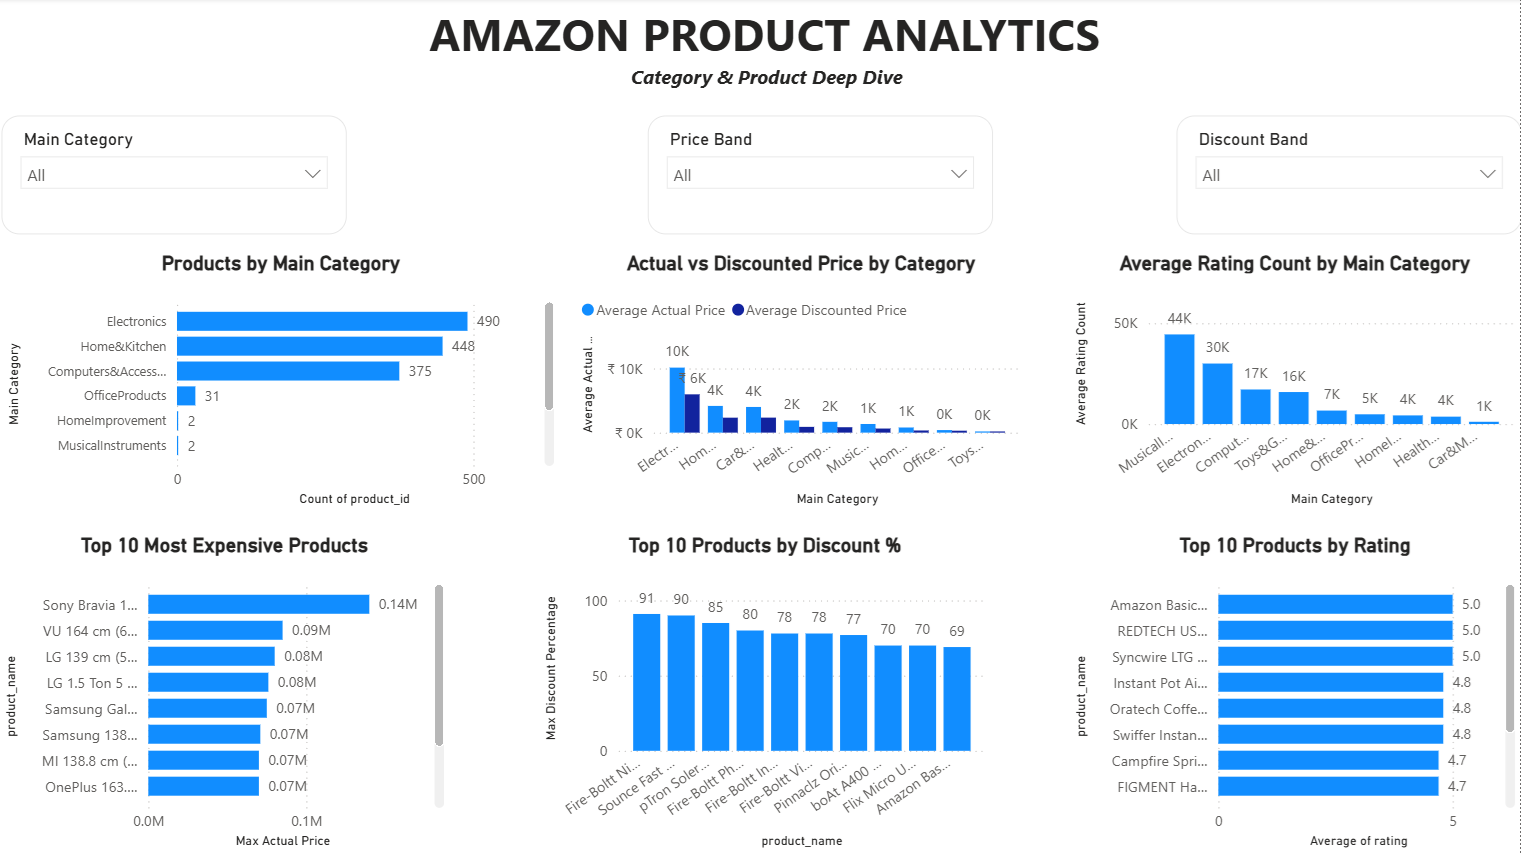

This screenshot's page, from the dashboard's own definition file:
{"tool":"powerbi","page":{"name":"Category & Product Deep Dive","canvas":[1280,720],"ordinal":3},"visuals":[{"type":"textbox","box":[314.4,0,659.2,98.8],"z":3001},{"type":"slicer","fields":{"Values":["AmazonProducts.Main Category"]},"box":[2.3,98.8,290,100],"z":3002},{"type":"slicer","fields":{"Values":["AmazonProducts.Price Band"]},"box":[545.4,98.8,290,100],"z":3003},{"type":"slicer","fields":{"Values":["AmazonProducts.Discount Band"]},"box":[990,98.8,290,100],"z":3004},{"type":"clusteredColumnChart","fields":{"Category":["AmazonProducts.Main Category"],"Y":["AmazonProducts.Average Rating Count"]},"box":[900,212.8,380,219.8],"z":3005},{"type":"clusteredBarChart","title":"Products by Main Category","fields":{"Category":["AmazonProducts.Main Category"],"Y":["Count(AmazonProducts.product_id)"]},"box":[2.3,212.8,470,220],"z":3006},{"type":"clusteredBarChart","title":"Top 10 Most Expensive Products","fields":{"Category":["AmazonProducts.product_name"],"Y":["AmazonProducts.Max Actual Price"]},"box":[0,450,379.6,270],"z":3008},{"type":"clusteredColumnChart","title":"Actual vs Discounted Price by Category","fields":{"Category":["AmazonProducts.Main Category"],"Y":["AmazonProducts.Average Actual Price","AmazonProducts.Average Discounted Price"]},"box":[484.9,212.8,380,220],"z":3011},{"type":"clusteredColumnChart","title":"Top 10 Products by Discount %","fields":{"Category":["AmazonProducts.product_name"],"Y":["AmazonProducts.Max Discount Percentage"]},"box":[454.7,450,380.2,270],"z":3012},{"type":"clusteredBarChart","title":"Top 10 Products by Rating","fields":{"Category":["AmazonProducts.product_name"],"Y":["Avg(AmazonProducts.rating)"]},"box":[900,450,380.2,270],"z":3013}]}

Visuals, with their boxes in screenshot pixels (x1, y1, x2, y2), scaled from the page's 1280x720 canvas onto the 1521x854 screenshot:
textbox: (374,0,1157,117)
slicer - AmazonProducts.Main Category: (3,117,347,236)
slicer - AmazonProducts.Price Band: (648,117,993,236)
slicer - AmazonProducts.Discount Band: (1176,117,1520,236)
clusteredColumnChart - AmazonProducts.Main Category x AmazonProducts.Average Rating Count: (1069,252,1520,513)
"Products by Main Category" clusteredBarChart: (3,252,561,513)
"Top 10 Most Expensive Products" clusteredBarChart: (0,534,451,853)
"Actual vs Discounted Price by Category" clusteredColumnChart: (576,252,1028,513)
"Top 10 Products by Discount %" clusteredColumnChart: (540,534,992,853)
"Top 10 Products by Rating" clusteredBarChart: (1069,534,1520,853)
